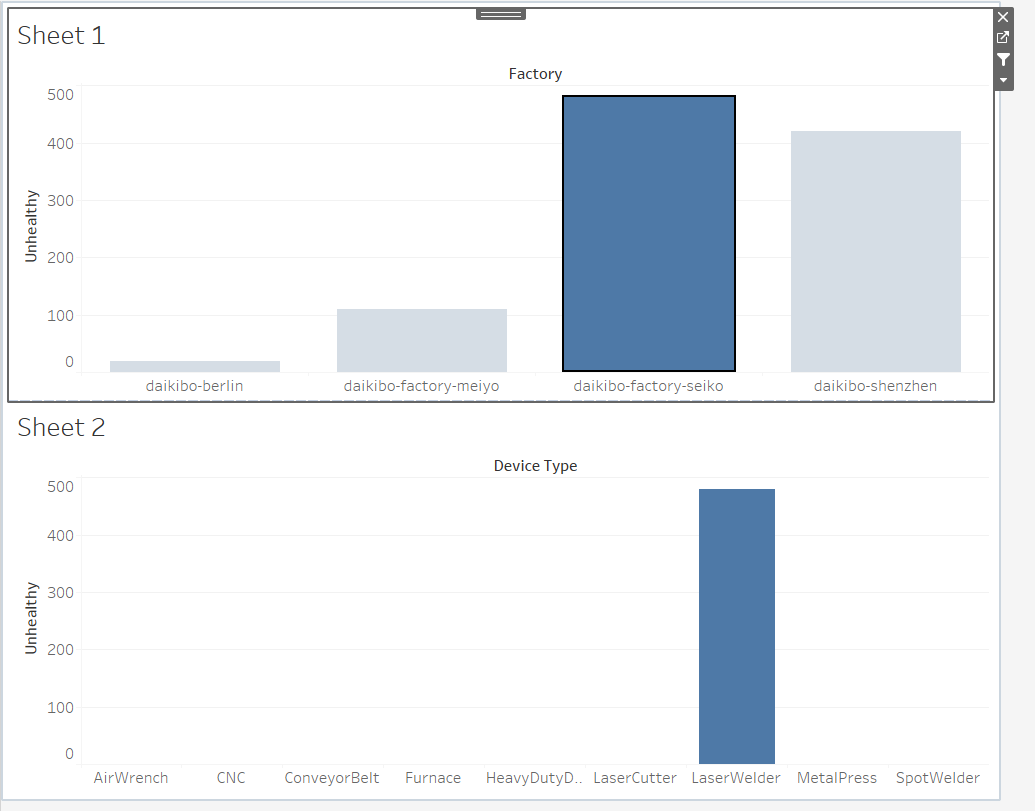

This screenshot's page, from the dashboard's own definition file:
{"tool":"tableau","page":{"name":"Dashboard 1","canvas":[1000,800],"ordinal":0},"visuals":[{"type":"worksheet","title":"Sheet 1","mark":"Automatic","rows":["Calculation_2250955446671298560"],"cols":["factory"],"box":[8,8,984,392]},{"type":"worksheet","title":"Sheet 2","mark":"Automatic","rows":["Calculation_2250955446671298560"],"cols":["deviceType"],"box":[8,400,984,392]}]}

Visuals, with their boxes in screenshot pixels (x1, y1, x2, y2):
"Sheet 1" worksheet: (x1=5, y1=8, x2=989, y2=400)
"Sheet 2" worksheet: (x1=5, y1=400, x2=989, y2=792)
